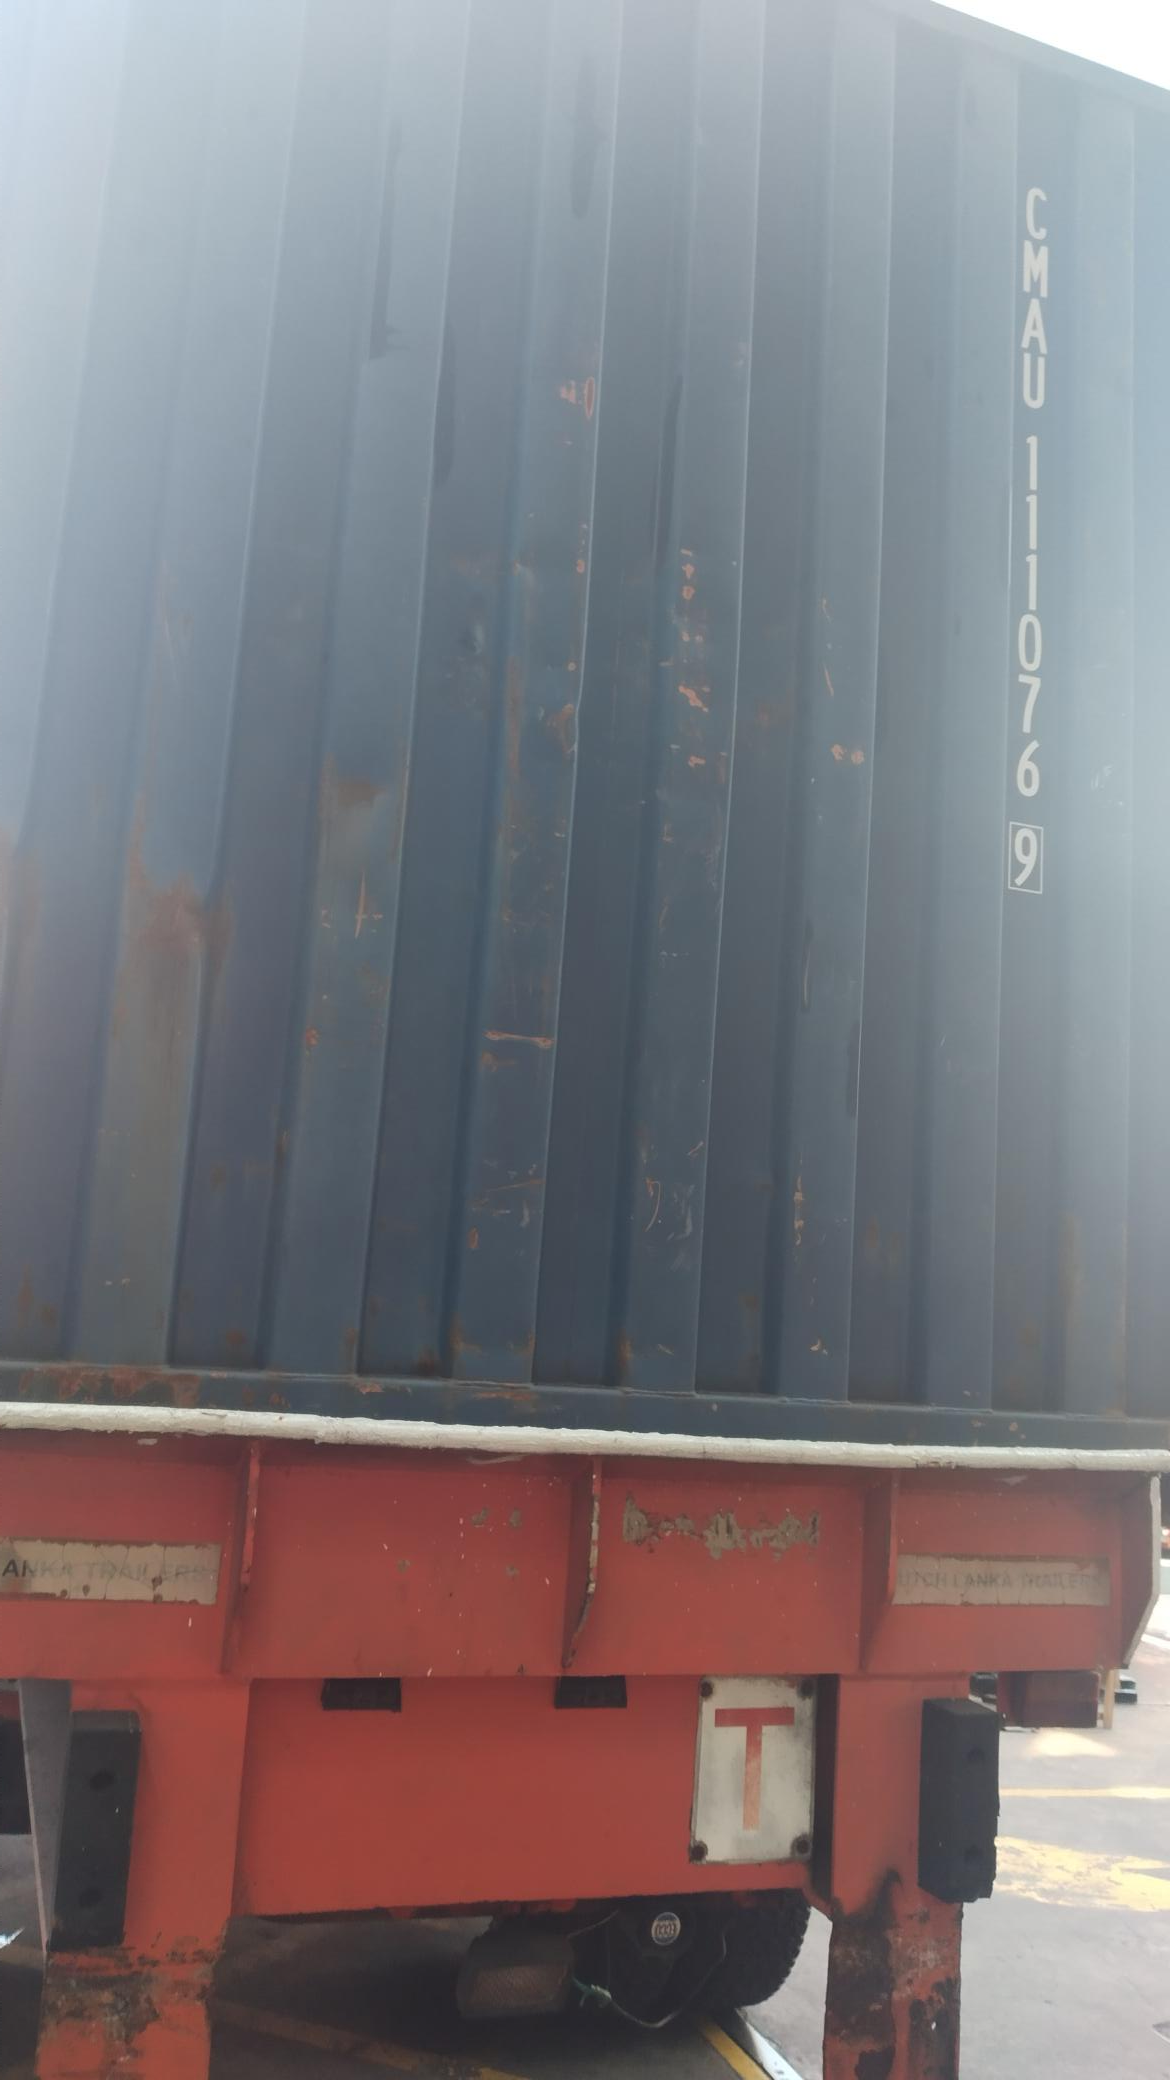dented: (311, 721, 411, 863)
rust: (109, 869, 234, 1029)
